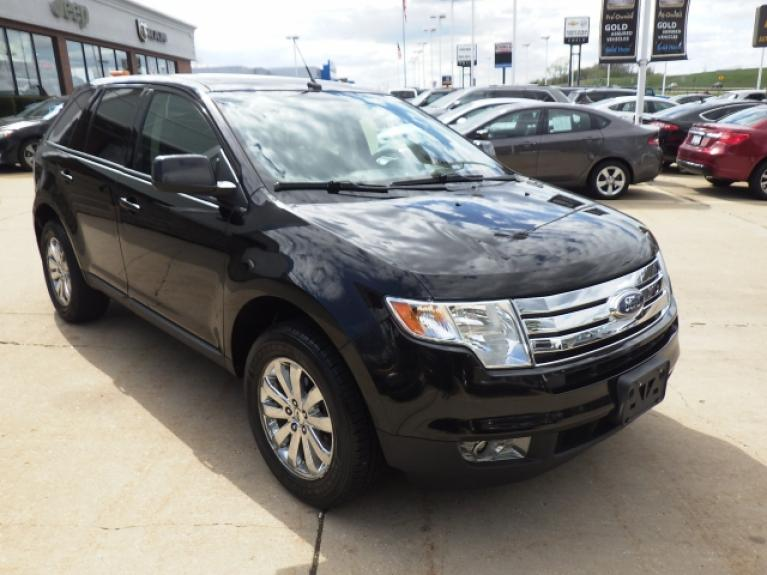windshield: (202, 88, 530, 202)
